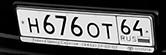license-plateSW: (15, 4, 155, 47)
